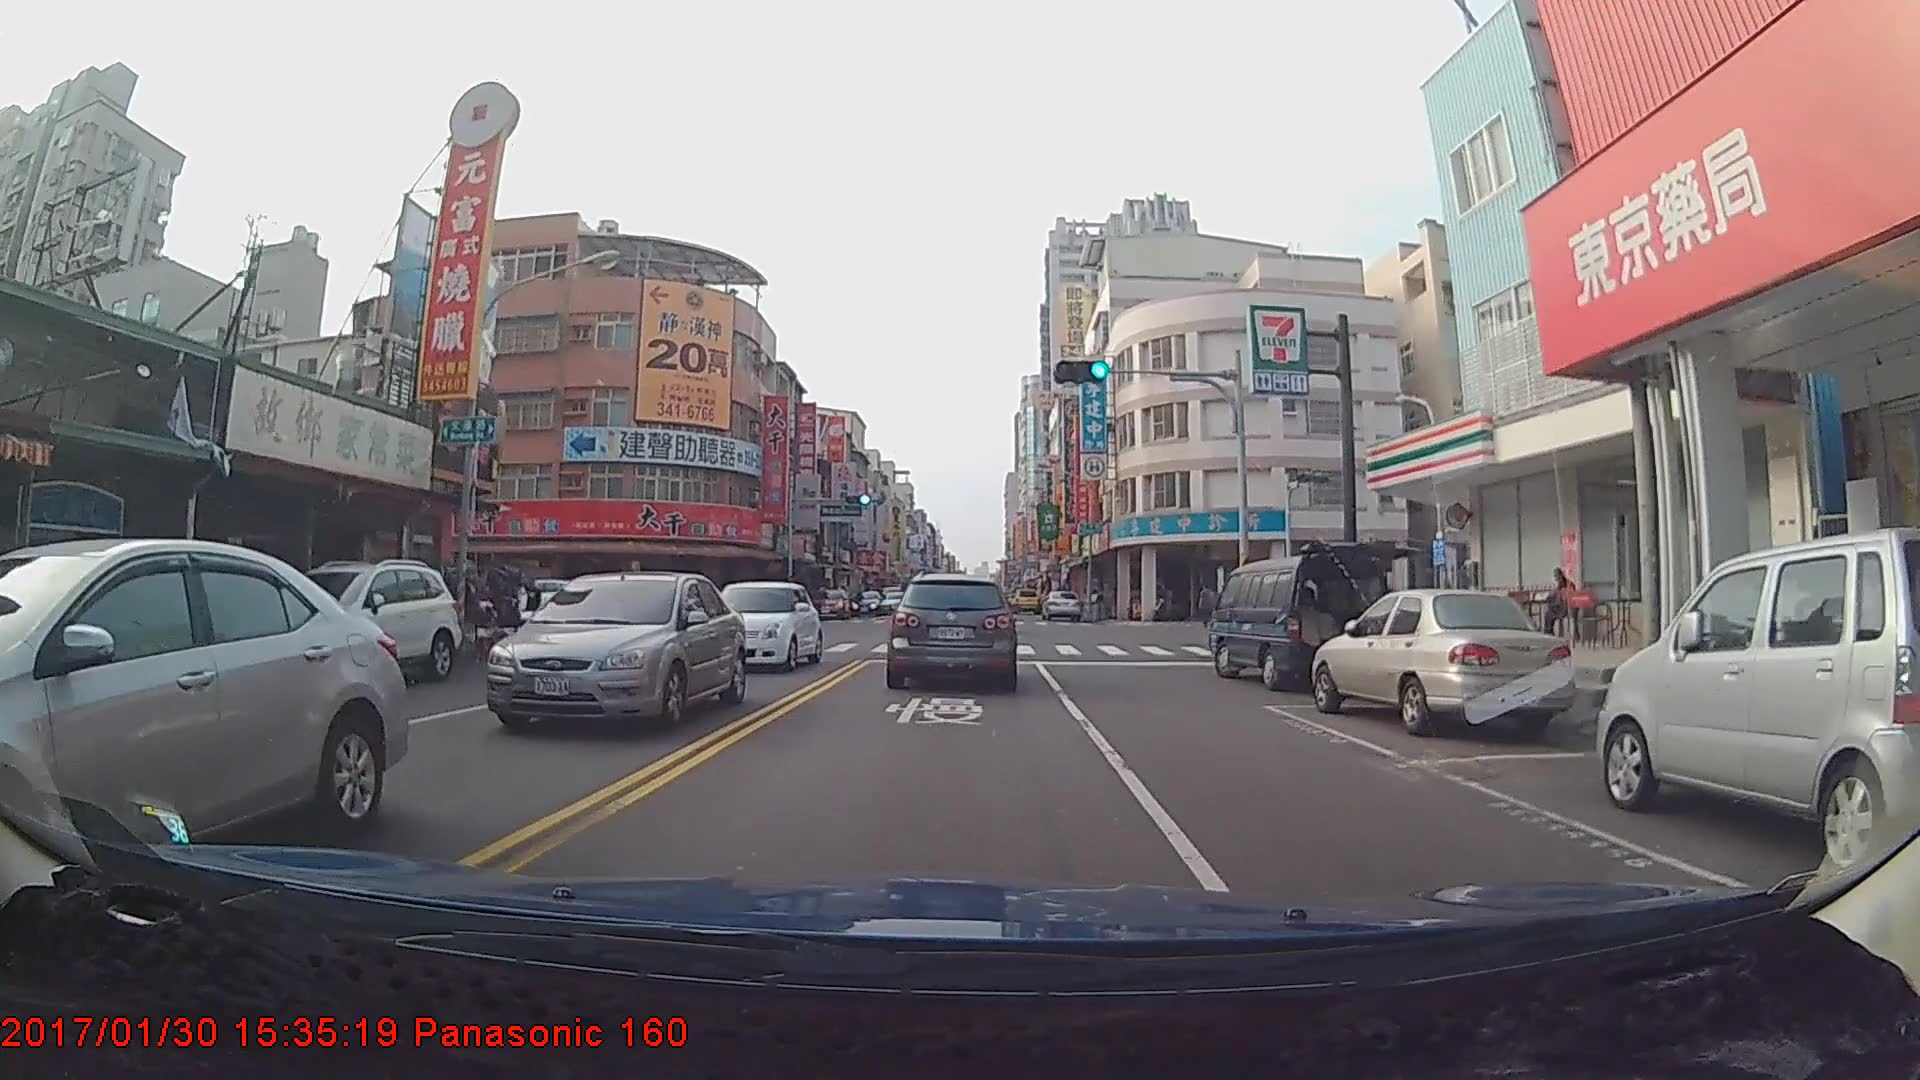pedestrian: (1199, 584, 1219, 632)
vehicle: (0, 538, 408, 919), (1599, 534, 1920, 854), (489, 567, 746, 732), (1312, 584, 1566, 733), (258, 553, 462, 692), (1208, 557, 1389, 686), (887, 571, 1017, 691), (705, 580, 822, 672), (1040, 588, 1082, 623), (810, 585, 849, 620), (848, 592, 883, 616), (1011, 587, 1039, 612)
